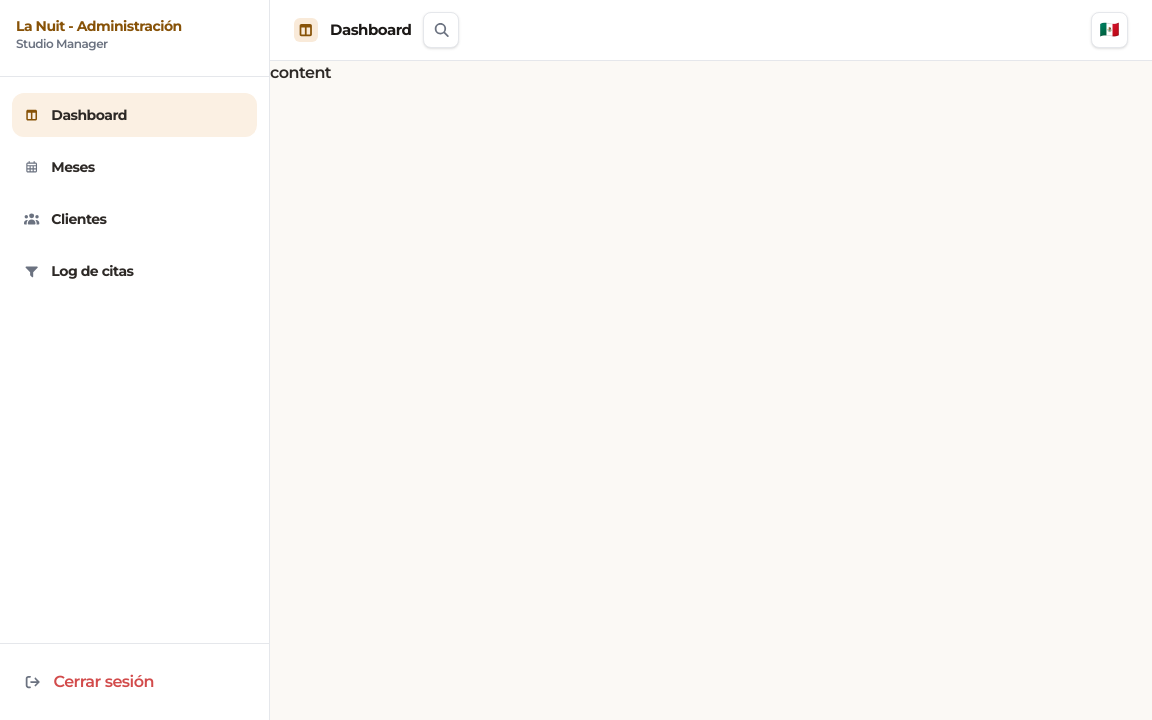
admin layout shell › shows an error state when the search fails
This screenshot has width=1152, height=720.
Step 1. Click the button named "Abrir buscador global" → (442, 30), box [424, 12, 460, 48]
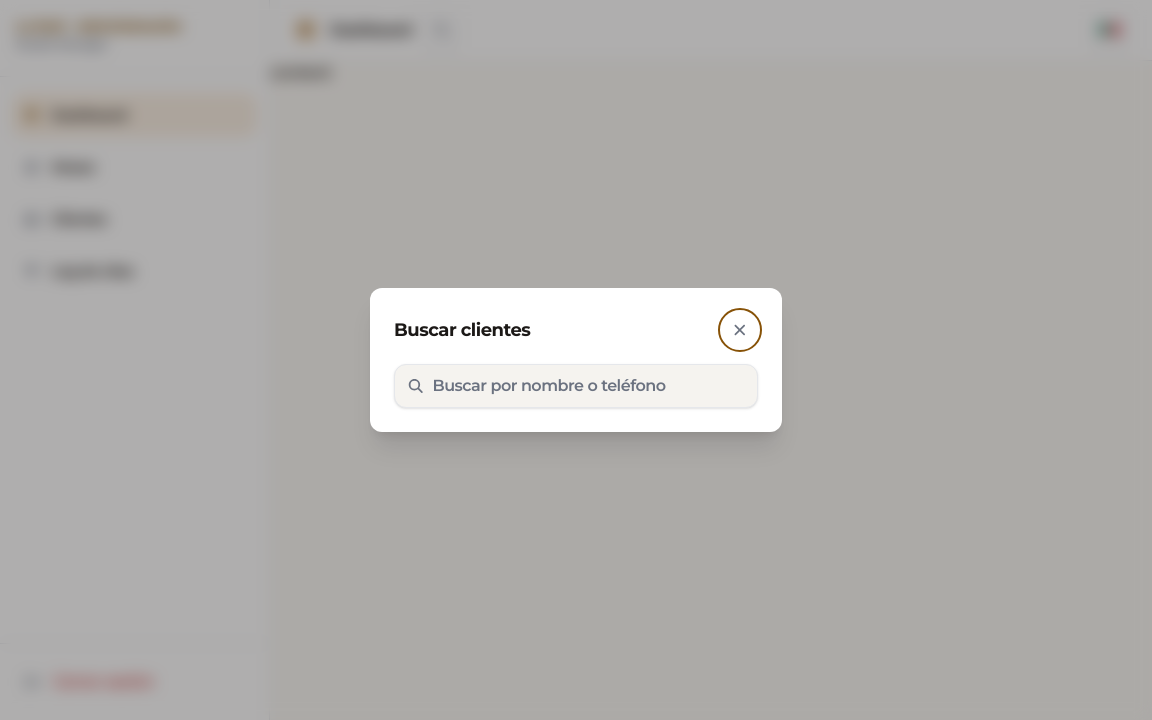
Step 2. Type "ana" into the field named "Buscar clientes" → (589, 386), box [432, 374, 745, 398]
Wait 500 ms
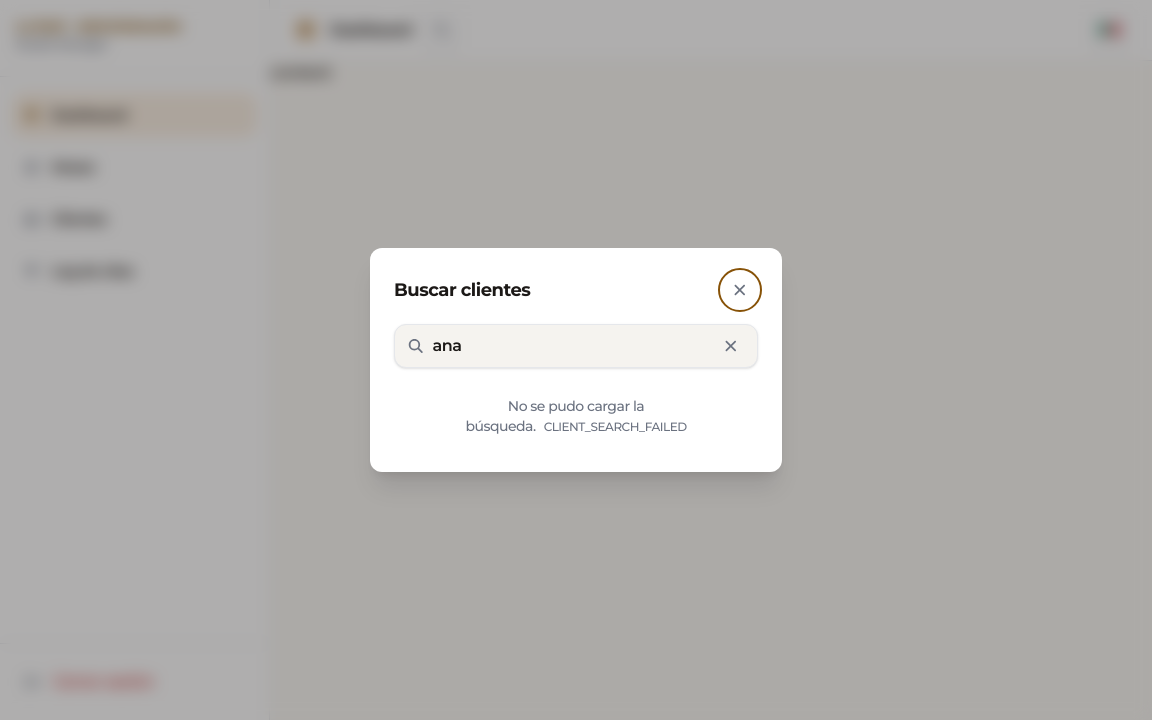
Expected: the text "No se pudo cargar la búsqueda." is shown, [465, 397, 644, 435]
